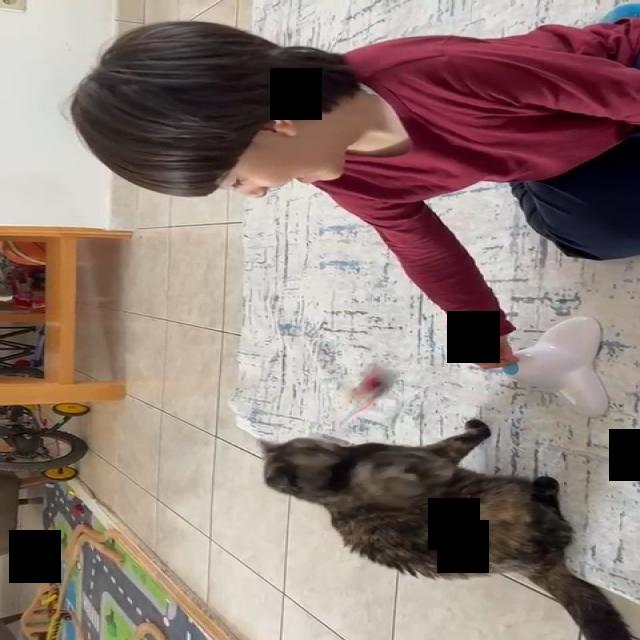authorized: (258, 418, 638, 639)
